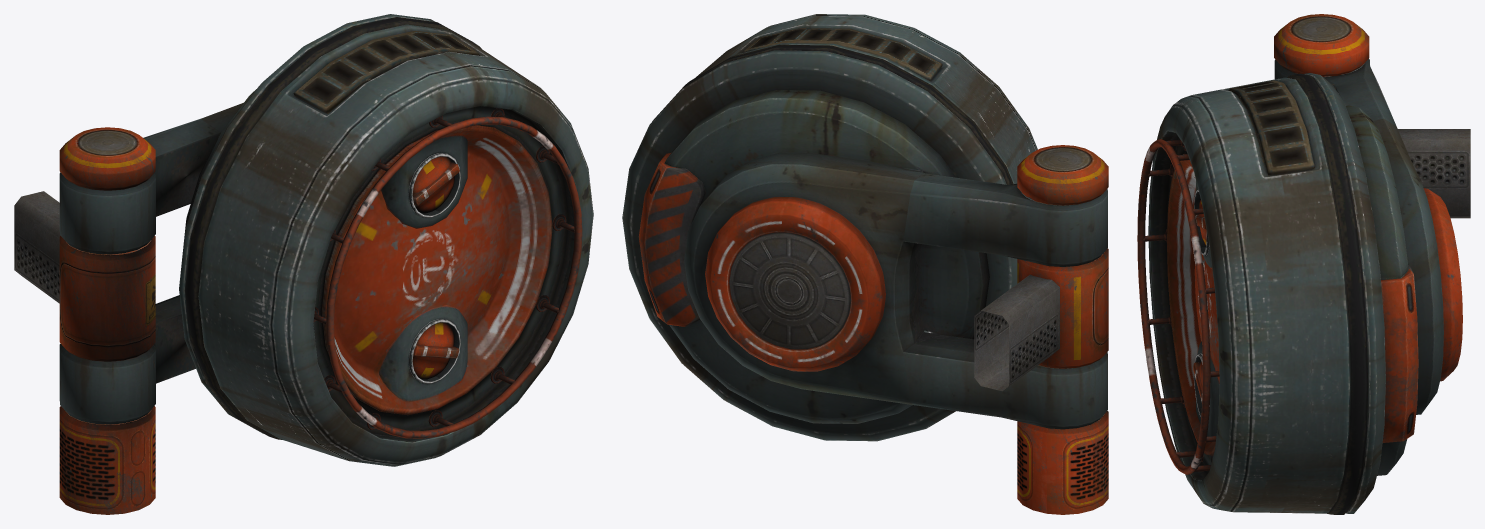
Rendered from swingdoor_tau_large_door_open.dae.
The picture shows the model from 3 angles, left to right: view 1: azimuth 30°, elevation 25°; view 2: azimuth 150°, elevation 25°; view 3: azimuth 270°, elevation 25°; orthographic projection. The views are drawn at different scales.
Visible parts, largest first — view 1: door, door_pillar, door_joint, left_rotator, right_rotator; view 2: door_joint, door, door_pillar; view 3: door, door_joint, door_pillar.
Boxes of the visible parts, x1,y1,x2,y2 form: door: (179,14,593,466); door_pillar: (14,127,155,514); door_joint: (59,89,256,424); left_rotator: (412,322,459,379); right_rotator: (412,156,459,213); door_joint: (638,90,1107,429); door: (622,14,1037,441); door_pillar: (974,145,1108,514); door: (1137,73,1385,514); door_joint: (1274,58,1462,475); door_pillar: (1274,14,1470,218).
Size of the model in its own units: 3.29 by 2.63 by 1.96.
